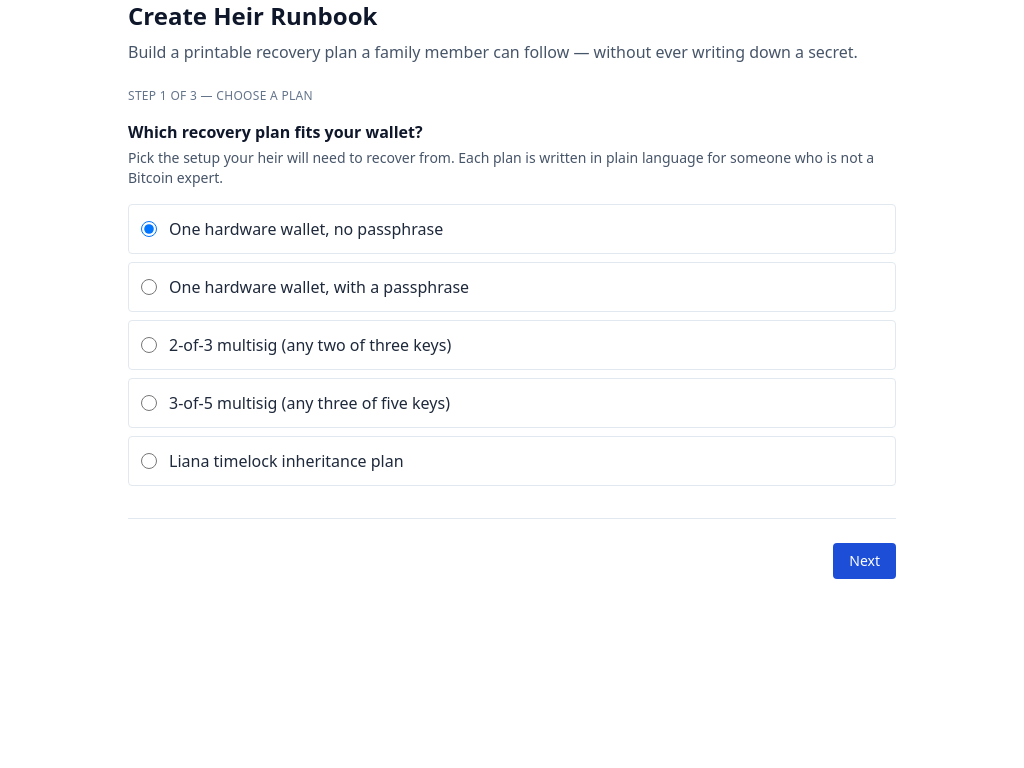
Test: Create Heir Runbook (US-053) › requires the §9.5 confirmation before exporting in private mode
What coordinates should you click on to do the following:
click the button "Next"
I would click on:
 (865, 561)
Its box is [833,543,896,579].
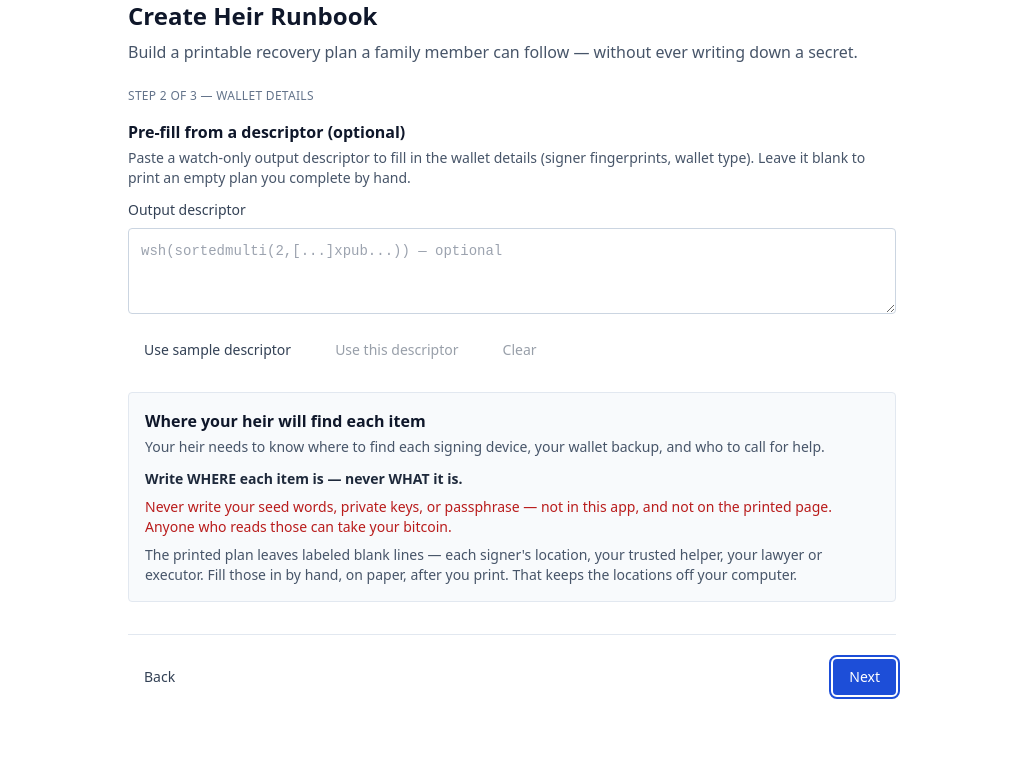
What coordinates should you click on to do the following:
click the button "Next"
I would click on:
 (865, 677)
Its box is [833,659,896,695].
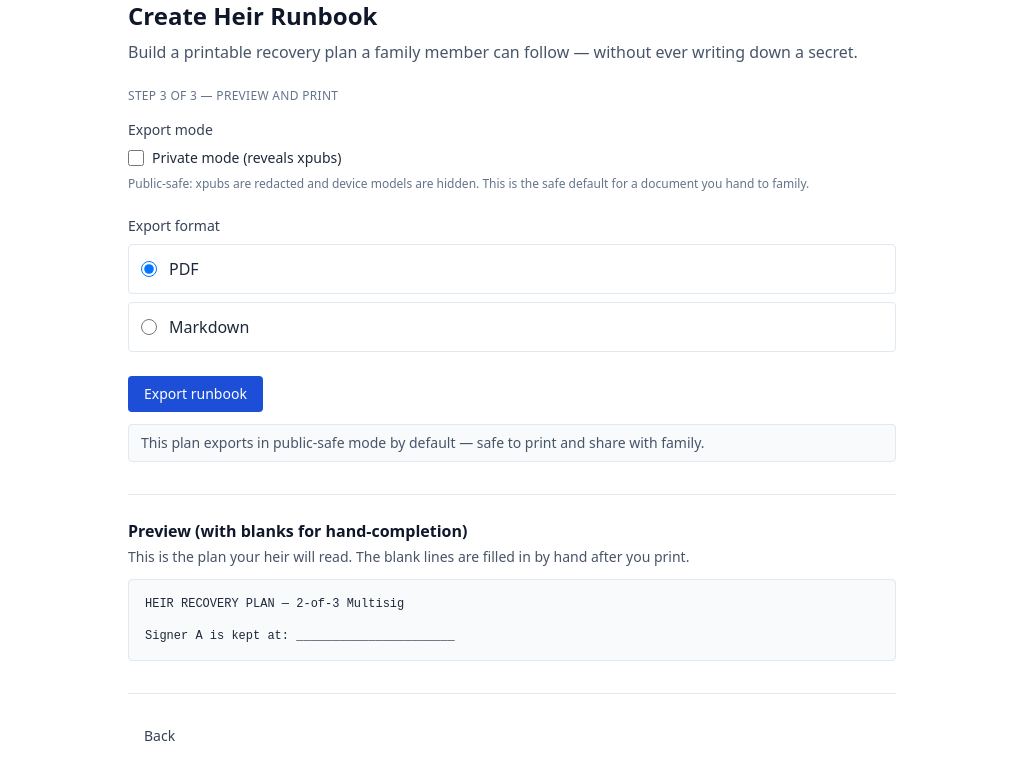
expect the text "Signer A is kept at:" is shown: met, box [145,597,455,643]
What coordinates should you click on to do the following:
click the checkbox labelled "Private mode (reveals xpubs)"
I would click on:
 (136, 158)
Its box is [128,150,144,166].
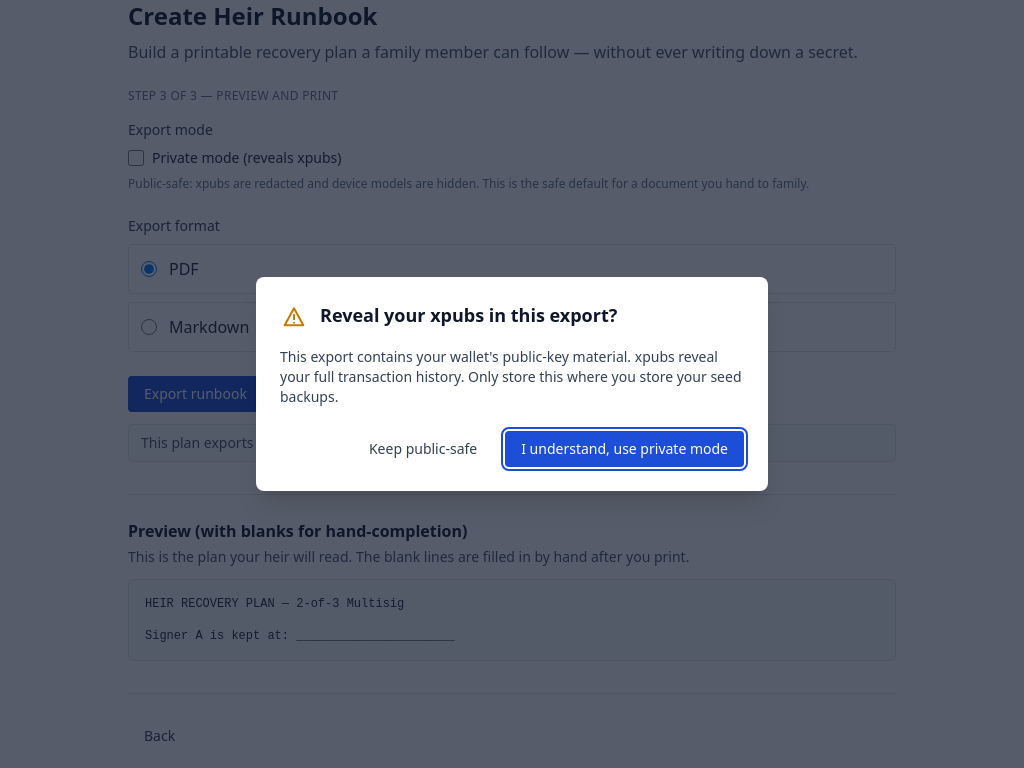
expect the text "This export contains your wallet's public-key material. xpubs reveal your full transaction history. Only store this wher" is shown: met, box [280,347,742,406]
What coordinates should you click on to do the following:
click the button "I understand, use private mode"
I would click on:
 (625, 449)
Its box is [505,431,744,467].
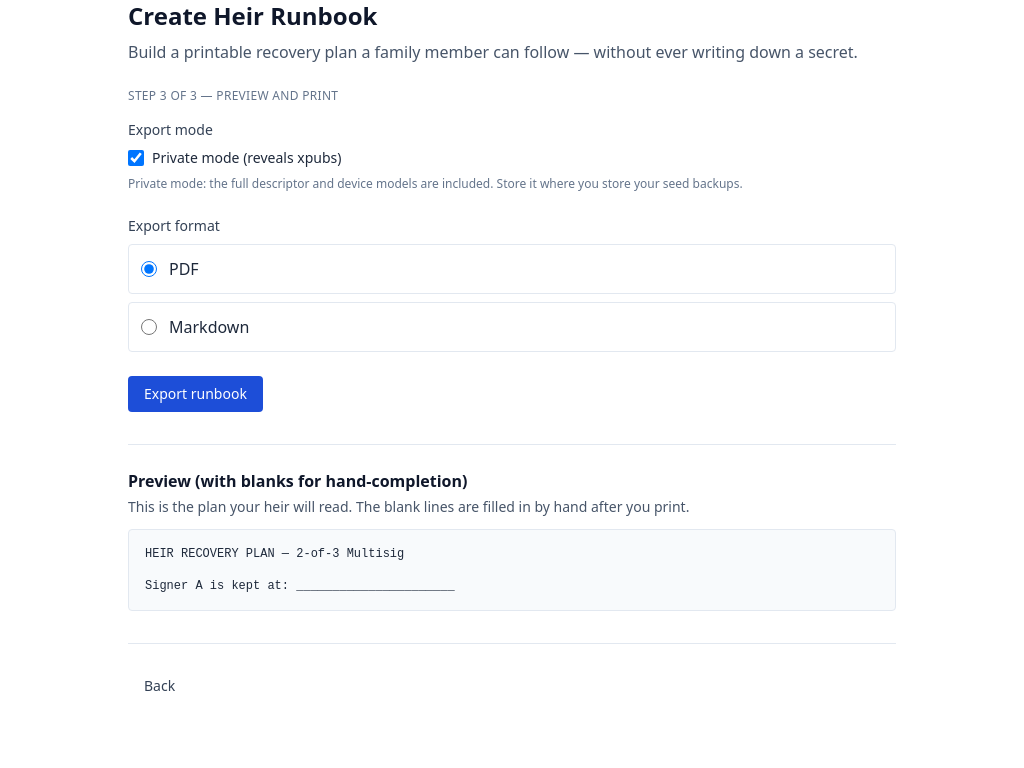
expect the dialog is gone: met
What coordinates should you click on to do the following:
click the button "Export runbook"
I would click on:
 (195, 394)
Its box is [128,376,263,412].
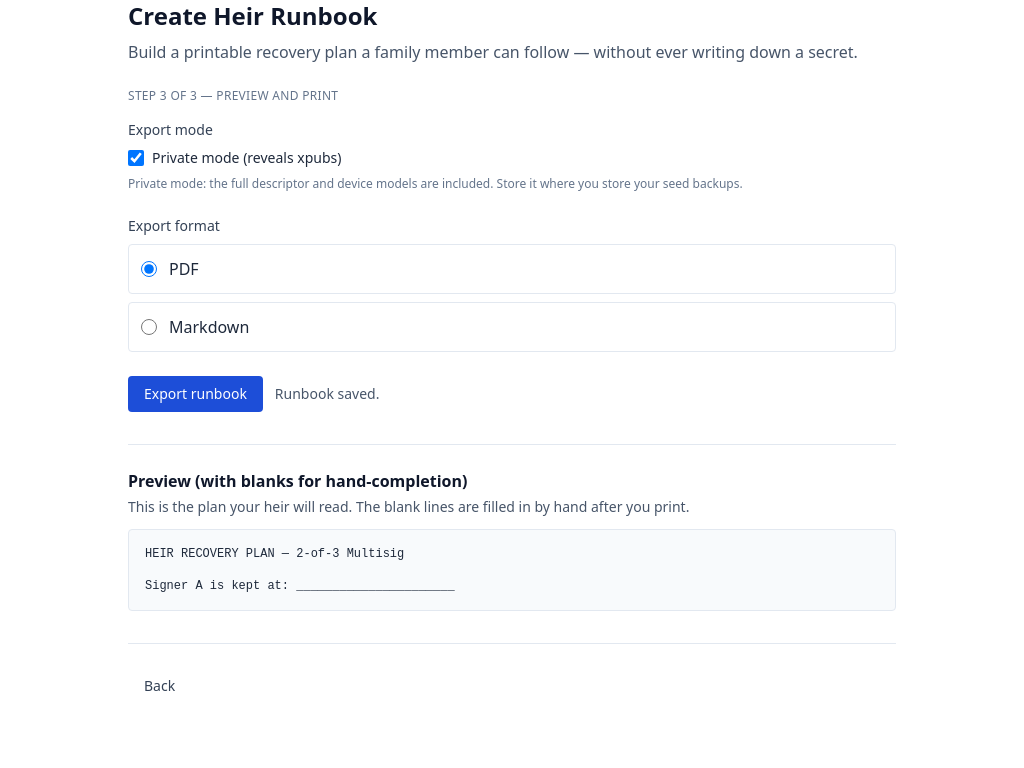
expect the text "Runbook saved." is shown: met, box [275,384,380,404]
